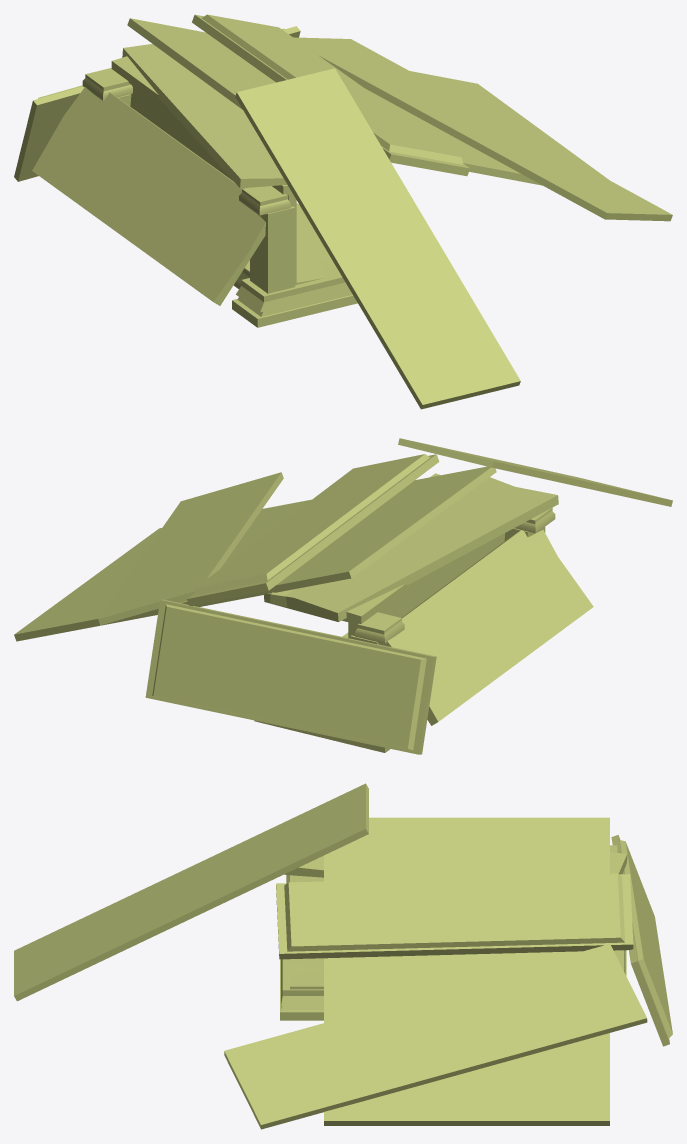
Rendered from Cupboard_14A_Break.fbx.
3 views of the same model, one above another, from view 1: azimuth 30°, elevation 25°; view 2: azimuth 150°, elevation 25°; view 3: azimuth 270°, elevation 25° (orthographic). The views are drawn at different scales.
Visible parts, largest first — view 1: Cupboard_14A_Break; view 2: Cupboard_14A_Break; view 3: Cupboard_14A_Break.
Boxes of the visible parts, bbox=[...] form: Cupboard_14A_Break: bbox=[14, 14, 672, 409]; Cupboard_14A_Break: bbox=[14, 438, 672, 754]; Cupboard_14A_Break: bbox=[14, 783, 672, 1129].
Bounding box in the file's own units: 224 × 92.37 × 297.
